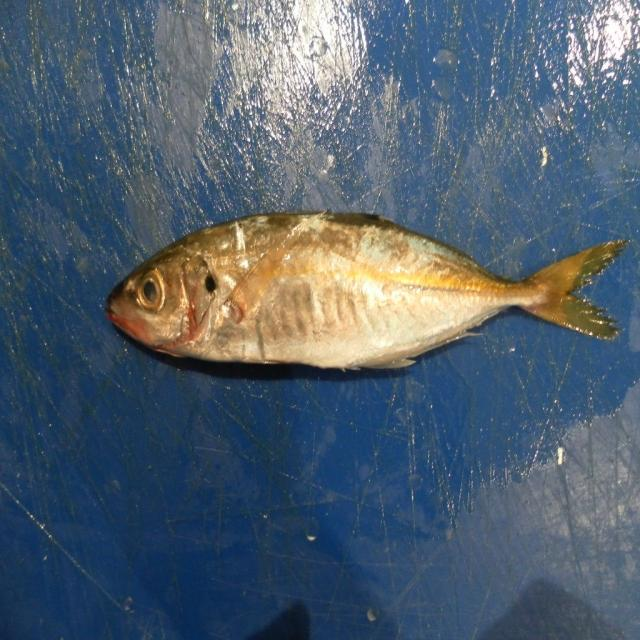Hourse-Mackerel-istavrit-: (103, 212, 628, 373)
